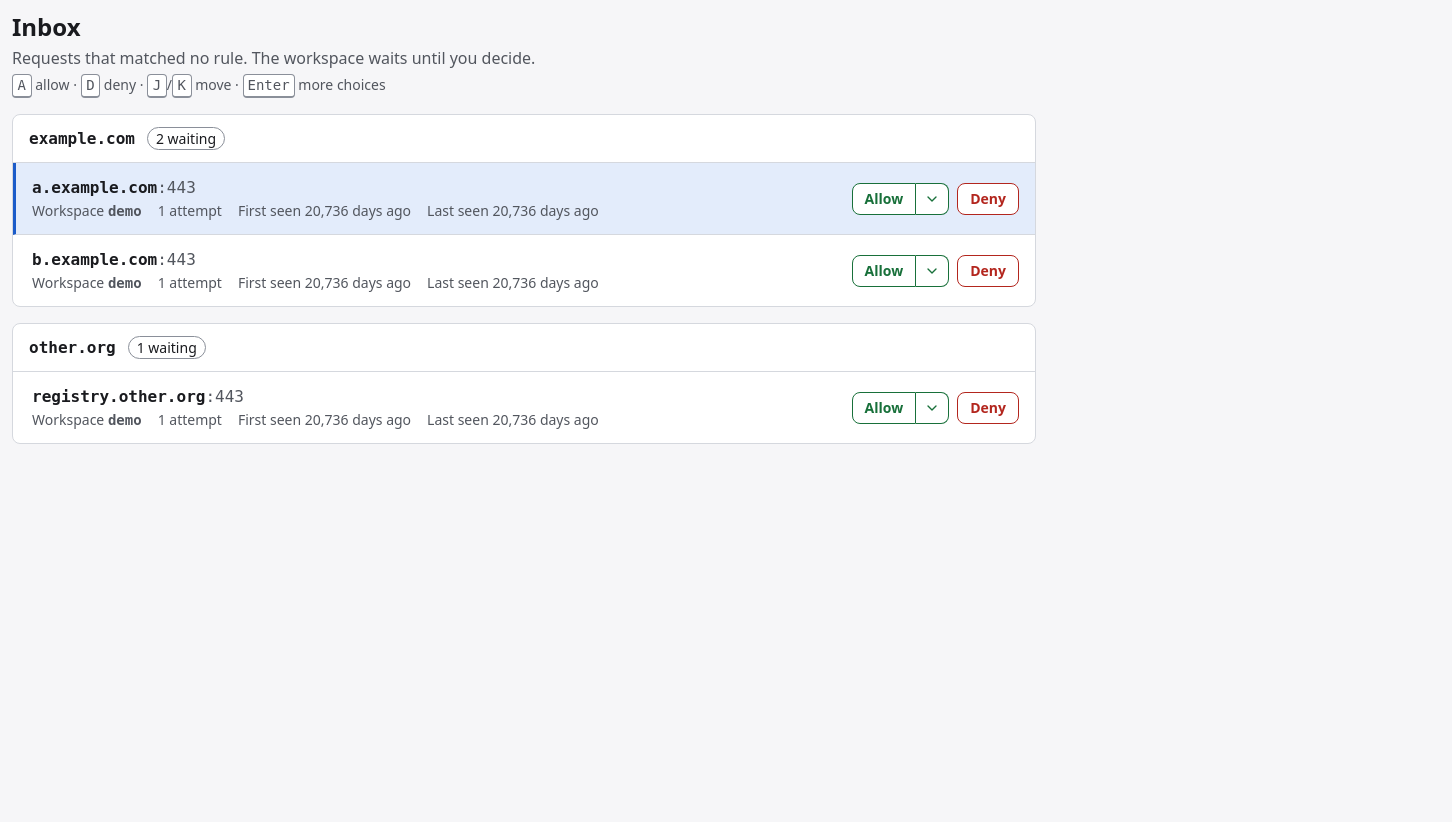
Test: deciding with the buttons › shows a refusal and refetches when the request was already decided elsewhere
The width and height of the screenshot is (1452, 822).
Expected: the heading "example.com" is shown, [29,128,135,148]
Click the button with aria-label "Allow a.example.com for demo": [884, 198] box [852,182,916,214]
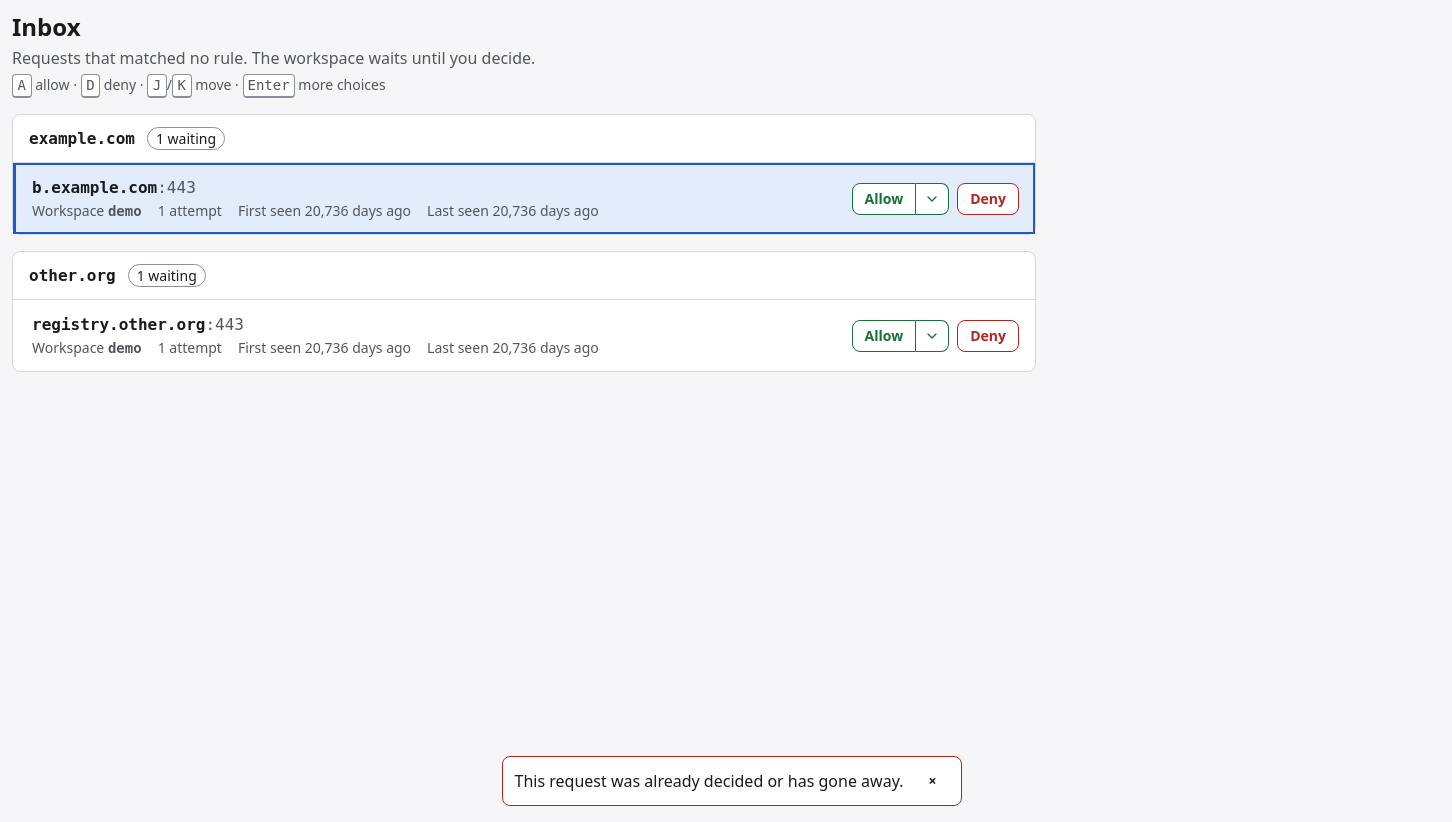
Expected: the text "This request was already decided or has gone away." is shown, [514,769,903,793]
Expected: the text "a.example.com" is gone
